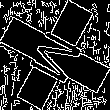M_SE: (22, 22, 88, 88)
